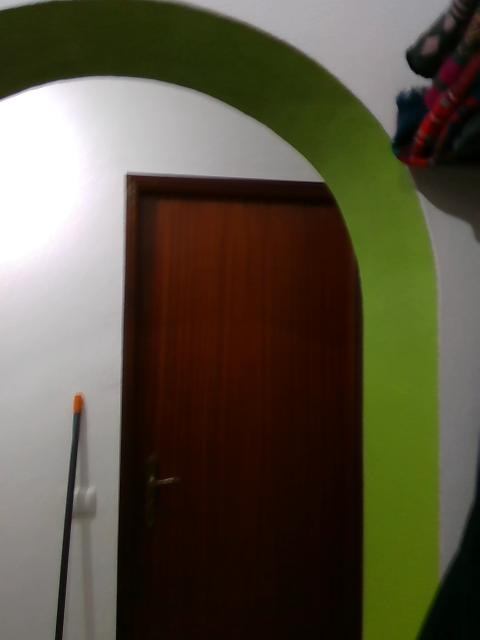door: (142, 193, 364, 640)
